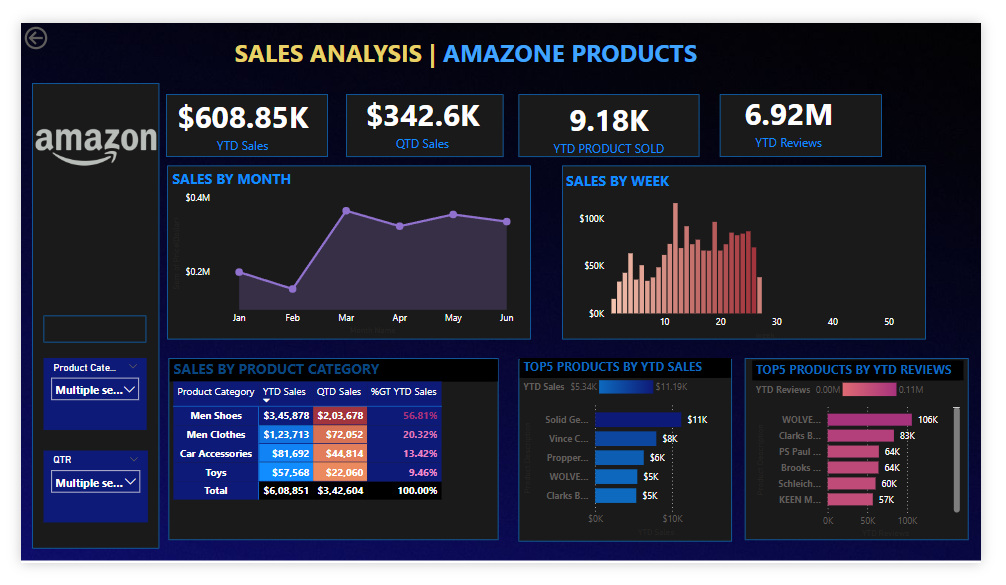

What the dashboard file says about the page in this screenshot:
{"tool":"powerbi","page":{"name":"Page 1","canvas":[1280,720],"ordinal":0},"visuals":[{"type":"shape","box":[15.3,79.2,169.4,620.8],"z":0},{"type":"textbox","box":[50,12.5,1190.3,52.8],"z":1000},{"type":"shape","box":[193.8,95,216.2,83.8],"z":2000},{"type":"card","fields":{"Values":["Amazon_Data.YTD Sales"]},"box":[193.8,82.5,205,103.8],"z":3000},{"type":"shape","box":[931.2,95,216.2,83.8],"z":4000},{"type":"shape","box":[662.5,95,241.2,83.8],"z":5000},{"type":"shape","box":[432.5,95,210,83.8],"z":6000},{"type":"card","fields":{"Values":["Amazon_Data.QTD Sales"]},"box":[432.5,80,205,103.8],"z":7000},{"type":"card","fields":{"Values":["Amazon_Data.YTD PRODUCT SOLD"]},"box":[681.2,86.2,205,103.8],"z":8000},{"type":"card","fields":{"Values":["Amazon_Data.YTD Reviews"]},"box":[922.2,79.2,204.2,102.8],"z":9000},{"type":"shape","box":[194.4,190.3,484.7,231.9],"z":10000},{"type":"areaChart","title":"  SALES BY MONTH","fields":{"Category":["Data Table.Month Name"],"Y":["Sum(Amazon_Data.Price(Dollar))"]},"box":[197.2,194.4,484.7,226.4],"z":11000},{"type":"shape","box":[722.2,190.3,484.7,231.9],"z":12000},{"type":"columnChart","title":"SALES BY WEEK","fields":{"Category":["Data Table.week"],"Y":["Sum(Amazon_Data.Price(Dollar))"]},"box":[722.2,195.8,484.7,230.6],"z":13000},{"type":"shape","box":[197.2,447.2,440.3,243.1],"z":14000},{"type":"pivotTable","title":"SALES BY PRODUCT CATEGORY","fields":{"Rows":["Amazon_Data.Product Category"],"Values":["Amazon_Data.YTD Sales","Amazon_Data.QTD Sales","Divide(Amazon_Data.YTD Sales, ScopedEval(Amazon_Data.YTD Sales, []))"]},"box":[198.6,448.6,437.5,243.1],"z":15000},{"type":"actionButton","box":[0,0,100,40],"z":16000},{"type":"shape","box":[662.5,448.6,284.7,243.1],"z":17000},{"type":"shape","box":[965.3,447.2,298.6,243.1],"z":18000},{"type":"clusteredBarChart","title":"TOP5 PRODUCTS BY YTD SALES","fields":{"Category":["Amazon_Data.Product Description"],"Y":["Amazon_Data.YTD Sales"]},"box":[665.3,447.2,281.9,243.1],"z":19000},{"type":"clusteredBarChart","title":"TOP5 PRODUCTS BY YTD REVIEWS","fields":{"Category":["Amazon_Data.Product Description"],"Y":["Amazon_Data.YTD Reviews"]},"box":[975,450,281.9,241.7],"z":20000},{"type":"slicer","fields":{"Values":["Amazon_Data.Product Category"]},"box":[30.6,447.2,137.5,95.8],"z":21000},{"type":"slicer","fields":{"Values":["Data Table.qtr"]},"box":[30.6,569.4,138.9,95.8],"z":22000},{"type":"image","box":[4.2,19.4,194.4,300],"z":23000},{"type":"shape","box":[30.6,390.3,137.5,36.1],"z":24000}]}

Visuals, with their boxes on the page's 1280x720 design canvas (x1, y1, x2, y2). These are canvas units, not pixel positions in the 1006x585 screenshot, which may show the page scaled, cropped or inside an application window:
shape: box=[15, 79, 185, 700]
textbox: box=[50, 12, 1240, 65]
shape: box=[194, 95, 410, 179]
card - Amazon_Data.YTD Sales: box=[194, 82, 399, 186]
shape: box=[931, 95, 1147, 179]
shape: box=[662, 95, 904, 179]
shape: box=[432, 95, 642, 179]
card - Amazon_Data.QTD Sales: box=[432, 80, 638, 184]
card - Amazon_Data.YTD PRODUCT SOLD: box=[681, 86, 886, 190]
card - Amazon_Data.YTD Reviews: box=[922, 79, 1126, 182]
shape: box=[194, 190, 679, 422]
"  SALES BY MONTH" areaChart: box=[197, 194, 682, 421]
shape: box=[722, 190, 1207, 422]
"SALES BY WEEK" columnChart: box=[722, 196, 1207, 426]
shape: box=[197, 447, 638, 690]
"SALES BY PRODUCT CATEGORY" pivotTable: box=[199, 449, 636, 692]
actionButton: box=[0, 0, 100, 40]
shape: box=[662, 449, 947, 692]
shape: box=[965, 447, 1264, 690]
"TOP5 PRODUCTS BY YTD SALES" clusteredBarChart: box=[665, 447, 947, 690]
"TOP5 PRODUCTS BY YTD REVIEWS" clusteredBarChart: box=[975, 450, 1257, 692]
slicer - Amazon_Data.Product Category: box=[31, 447, 168, 543]
slicer - Data Table.qtr: box=[31, 569, 170, 665]
image: box=[4, 19, 199, 319]
shape: box=[31, 390, 168, 426]
